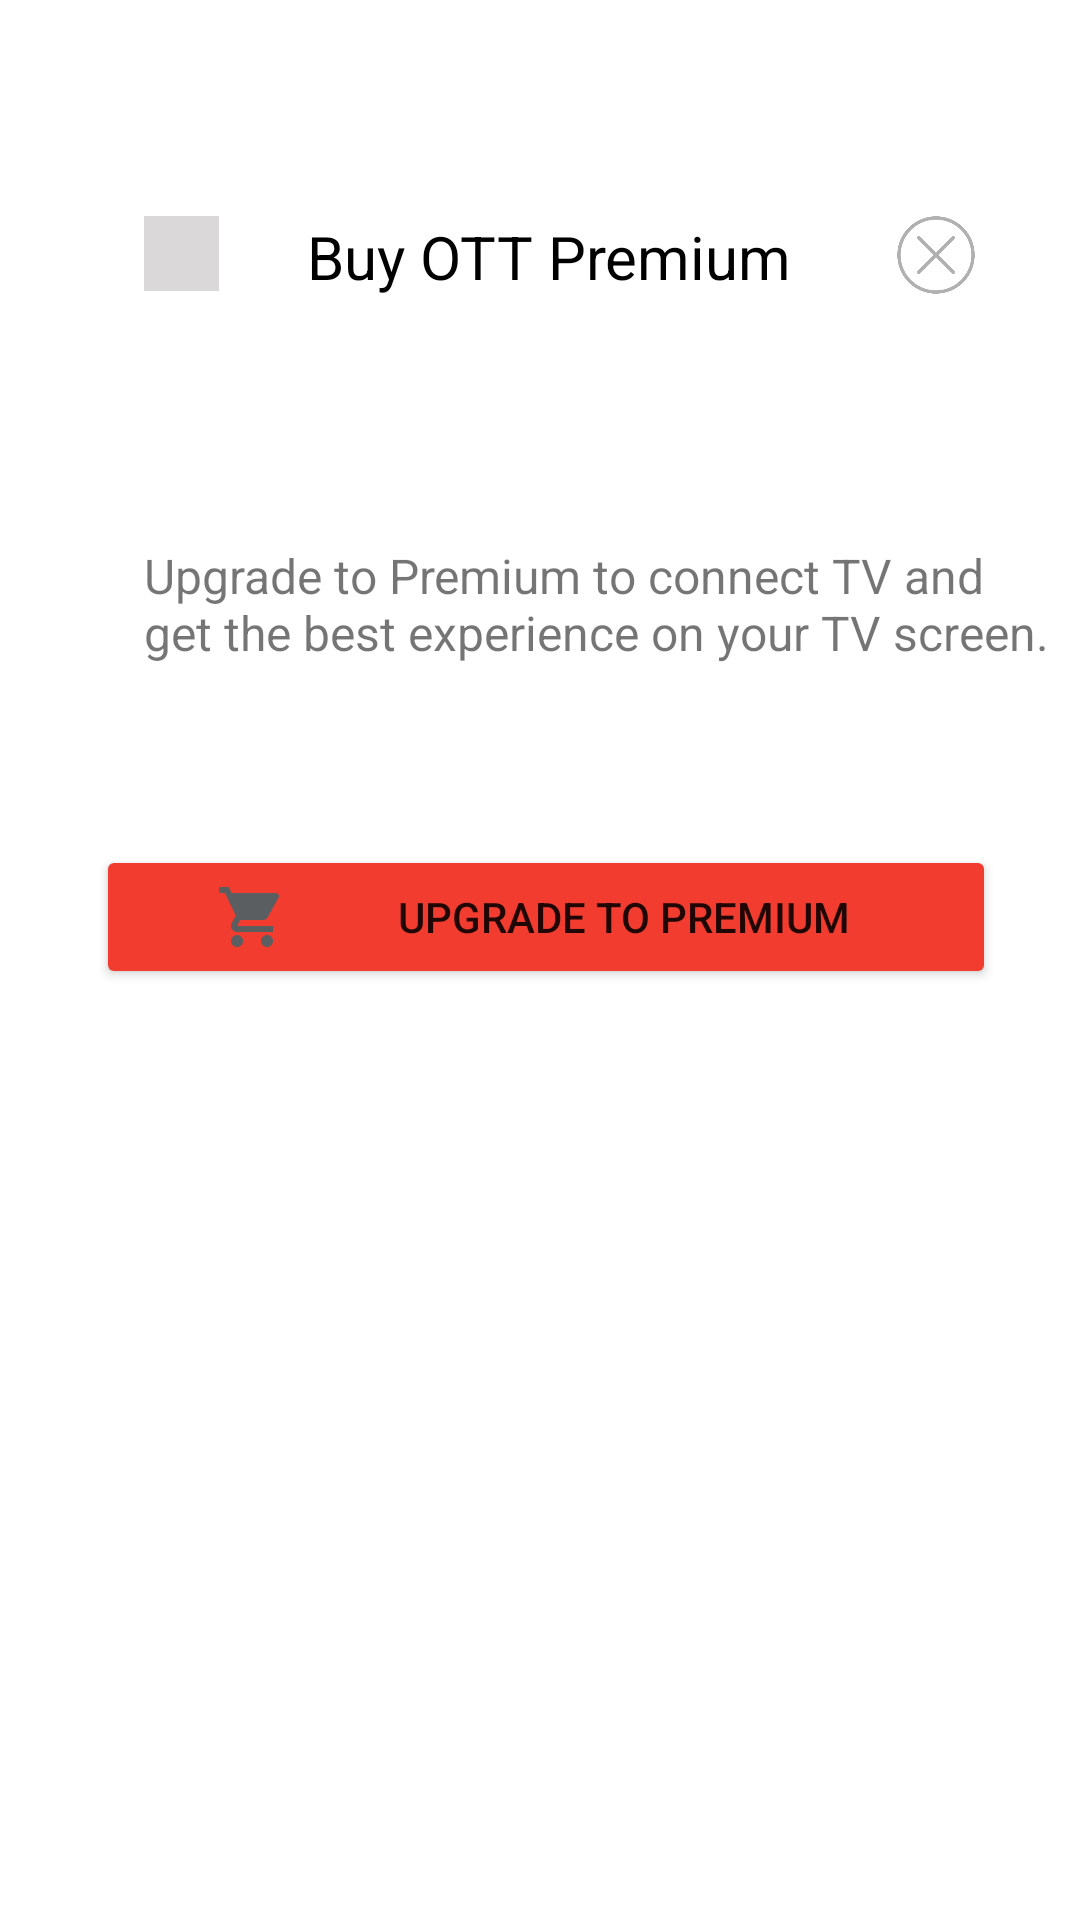

Named icons in this screenshot (1080w x 1920h) and their bounding boxes, (x1, y1, x2, y2):
close: (897, 216, 975, 294)
